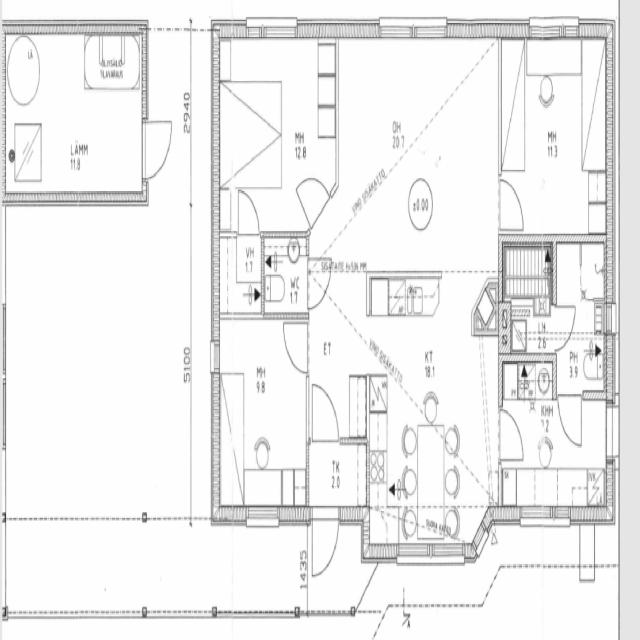door: (296, 155, 330, 231), (312, 507, 338, 582), (142, 122, 174, 178), (606, 407, 639, 460), (312, 381, 339, 444), (498, 409, 525, 460), (558, 391, 581, 450), (282, 323, 308, 373), (305, 259, 331, 309), (498, 180, 524, 229), (551, 307, 576, 350), (239, 187, 259, 238)
